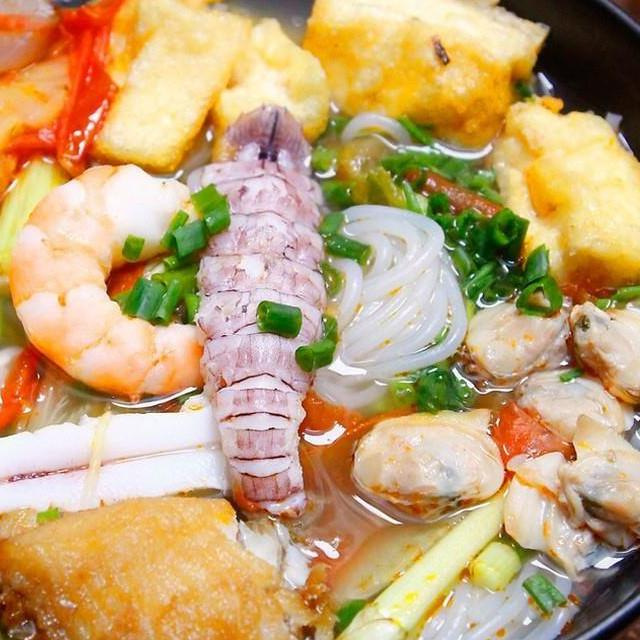bun: (307, 199, 480, 419), (373, 539, 593, 640)
bun hai san: (0, 0, 640, 640)
ca: (0, 487, 324, 640)
dau hu: (293, 0, 559, 165), (477, 87, 640, 314)
muc: (0, 381, 249, 534)
tom: (2, 156, 241, 406)
tom tit: (178, 96, 338, 531)
